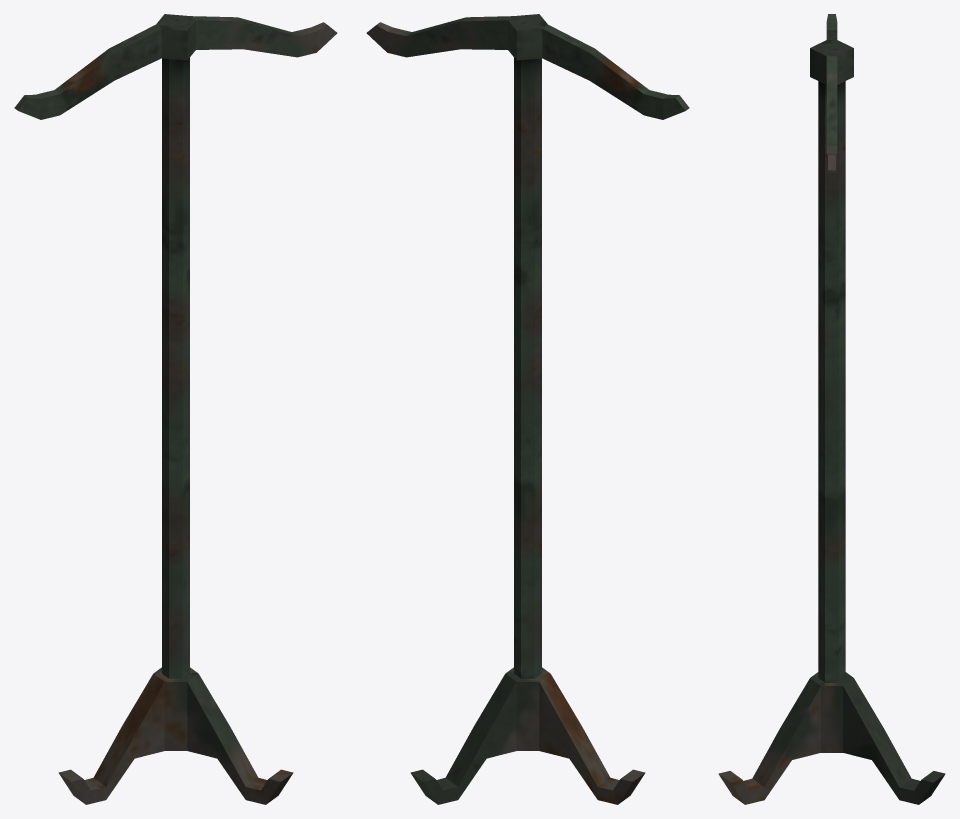
Rendered from IV_Stand.fbx.
3 views of the same model, side by side, from view 1: azimuth 30°, elevation 25°; view 2: azimuth 150°, elevation 25°; view 3: azimuth 270°, elevation 25° (orthographic). The views are drawn at different scales.
Parts seen in each view (by area): view 1: IV_Stand; view 2: IV_Stand; view 3: IV_Stand.
Boxes of the visible parts, box(x1,y1,x2,y2) form: IV_Stand: box(14, 14, 337, 804); IV_Stand: box(366, 14, 689, 804); IV_Stand: box(718, 14, 945, 804).
Bounding box in the file's own units: 88.03 × 199 × 56.15.
Materials: 1 (1 with a texture image).
